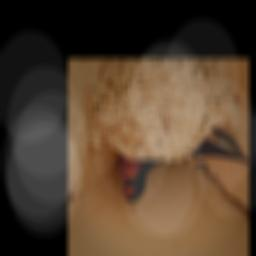Swallow: (120, 120, 248, 203)
